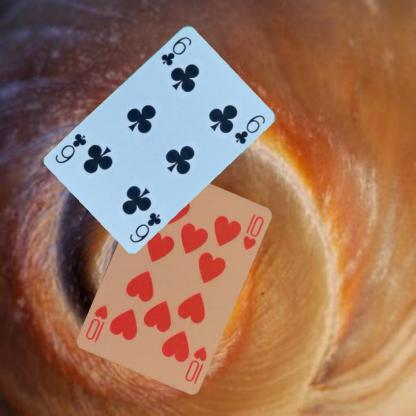10h: (182, 344, 208, 382)
6c: (126, 209, 162, 244), (158, 34, 193, 68)
